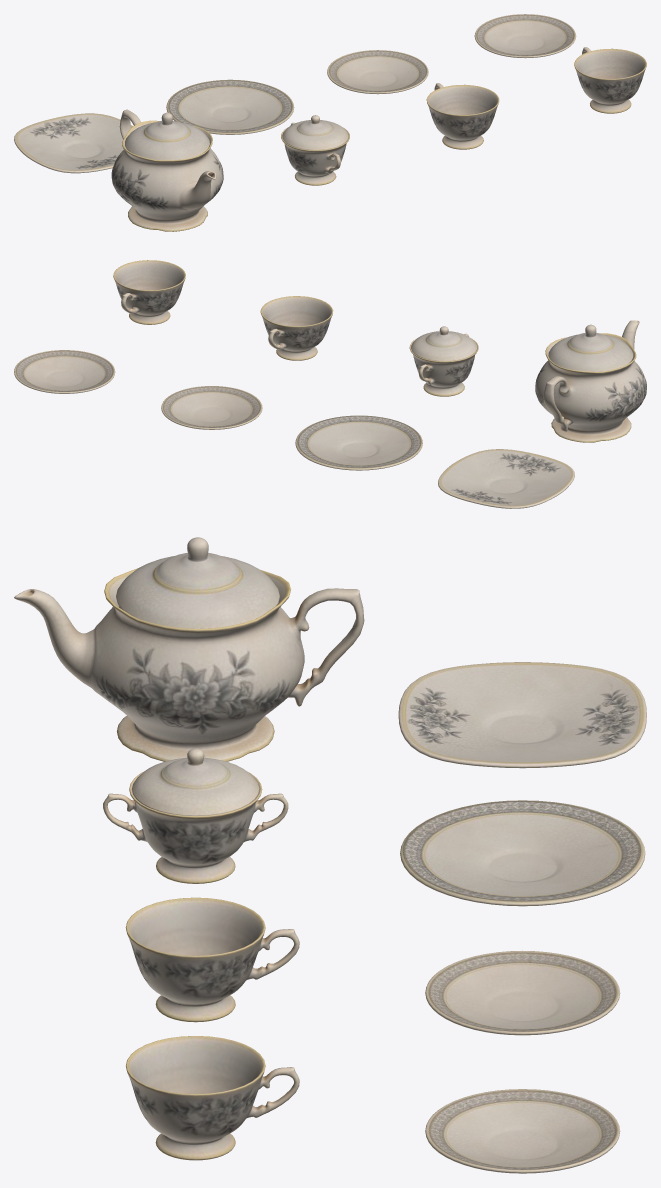
The model's file is tea_set_01_1k.glb.
3 renders of one model, top to bottom at view 1: azimuth 30°, elevation 25°; view 2: azimuth 150°, elevation 25°; view 3: azimuth 270°, elevation 25°, orthographic. The views are drawn at different scales.
Parts seen in each view (by area): view 1: tea_set_01_teapot_01, tea_set_01_plate_large_circular_03, tea_set_01_plate_large_square_01, tea_set_01_cup_small_01, tea_set_01_cup_small_02, tea_set_01_saucer_circular_03, tea_set_01_saucer_circular_04, tea_set_01_teapot_01_lid, tea_set_01_sugar_cup_01, tea_set_01_sugar_cup_01_lid; view 2: tea_set_01_teapot_01, tea_set_01_plate_large_square_01, tea_set_01_plate_large_circular_03, tea_set_01_cup_small_01, tea_set_01_cup_small_02, tea_set_01_saucer_circular_04, tea_set_01_saucer_circular_03, tea_set_01_teapot_01_lid, tea_set_01_sugar_cup_01, tea_set_01_sugar_cup_01_lid; view 3: tea_set_01_teapot_01, tea_set_01_plate_large_square_01, tea_set_01_plate_large_circular_03, tea_set_01_cup_small_01, tea_set_01_cup_small_02, tea_set_01_saucer_circular_03, tea_set_01_saucer_circular_04, tea_set_01_teapot_01_lid, tea_set_01_sugar_cup_01, tea_set_01_sugar_cup_01_lid.
Part boxes in pixels (<box>): tea_set_01_teapot_01: <box>111,109,223,231</box>; tea_set_01_plate_large_circular_03: <box>166,79,294,134</box>; tea_set_01_plate_large_square_01: <box>14,113,133,173</box>; tea_set_01_cup_small_01: <box>426,83,499,149</box>; tea_set_01_cup_small_02: <box>574,47,646,113</box>; tea_set_01_saucer_circular_03: <box>474,14,576,58</box>; tea_set_01_saucer_circular_04: <box>327,50,428,94</box>; tea_set_01_teapot_01_lid: <box>125,112,209,160</box>; tea_set_01_sugar_cup_01: <box>281,122,349,185</box>; tea_set_01_sugar_cup_01_lid: <box>282,115,348,150</box>; tea_set_01_teapot_01: <box>535,320,646,442</box>; tea_set_01_plate_large_square_01: <box>438,449,574,508</box>; tea_set_01_plate_large_circular_03: <box>295,415,422,470</box>; tea_set_01_cup_small_01: <box>260,296,333,360</box>; tea_set_01_cup_small_02: <box>113,260,185,324</box>; tea_set_01_saucer_circular_04: <box>161,386,262,429</box>; tea_set_01_saucer_circular_03: <box>14,350,115,393</box>; tea_set_01_teapot_01_lid: <box>548,324,633,371</box>; tea_set_01_sugar_cup_01: <box>409,333,478,396</box>; tea_set_01_sugar_cup_01_lid: <box>411,326,477,361</box>; tea_set_01_teapot_01: <box>14,568,364,761</box>; tea_set_01_plate_large_square_01: <box>398,662,646,768</box>; tea_set_01_plate_large_circular_03: <box>400,800,645,906</box>; tea_set_01_cup_small_01: <box>125,897,299,1022</box>; tea_set_01_cup_small_02: <box>126,1036,299,1160</box>; tea_set_01_saucer_circular_03: <box>425,1089,620,1173</box>; tea_set_01_saucer_circular_04: <box>425,950,620,1035</box>; tea_set_01_teapot_01_lid: <box>116,537,279,628</box>; tea_set_01_sugar_cup_01: <box>103,771,288,883</box>; tea_set_01_sugar_cup_01_lid: <box>131,748,259,815</box>.
Size of the model in its own units: 0.9185 by 0.165 by 0.4839.
1 material, 1 textured.
